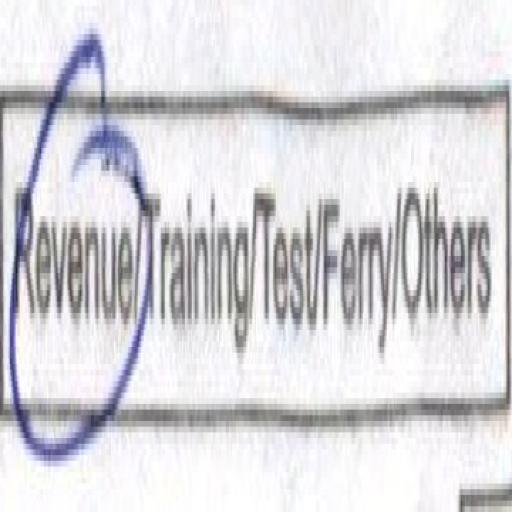check: (0, 22, 143, 482)
